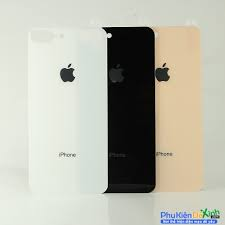iphone: (24, 21, 110, 197)
